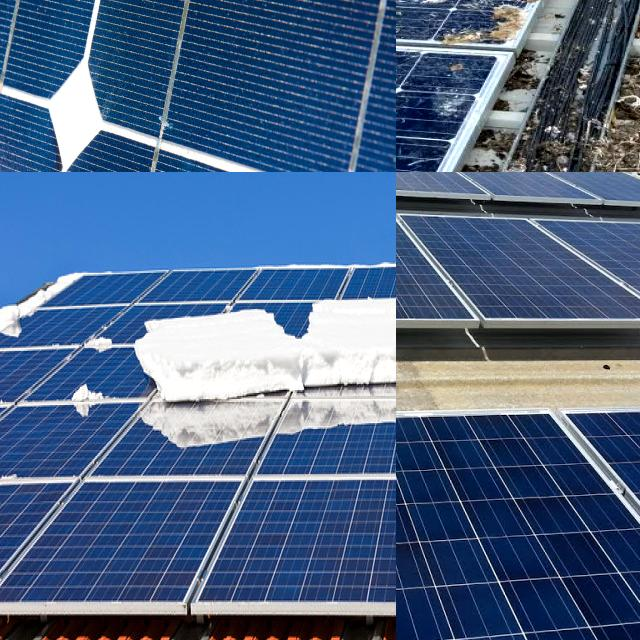bird: (396, 112, 451, 148), (435, 0, 512, 19), (396, 0, 457, 19), (396, 0, 441, 21), (501, 0, 573, 13), (396, 46, 431, 72), (396, 0, 435, 14), (396, 0, 426, 17), (549, 0, 578, 16), (396, 0, 422, 14), (396, 0, 424, 12)
crack: (0, 0, 396, 172), (396, 410, 640, 640), (396, 187, 640, 370), (396, 409, 544, 640), (396, 189, 518, 368), (396, 191, 499, 352), (550, 382, 640, 556), (433, 172, 595, 228), (522, 172, 640, 230), (396, 172, 506, 219), (396, 172, 470, 213), (396, 172, 472, 209)
panel: (128, 317, 304, 452), (169, 282, 288, 344), (150, 368, 267, 422), (294, 282, 386, 344), (282, 366, 370, 403), (0, 293, 35, 371), (32, 266, 90, 308), (64, 372, 100, 424), (75, 326, 125, 356)
